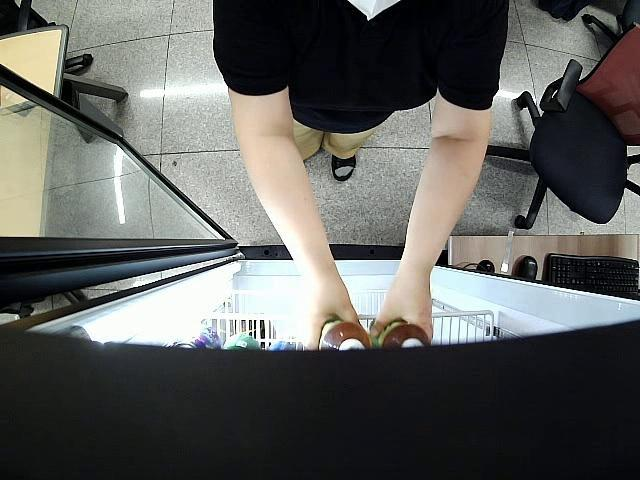19_17cha: (318, 319, 370, 349), (376, 320, 430, 346)
